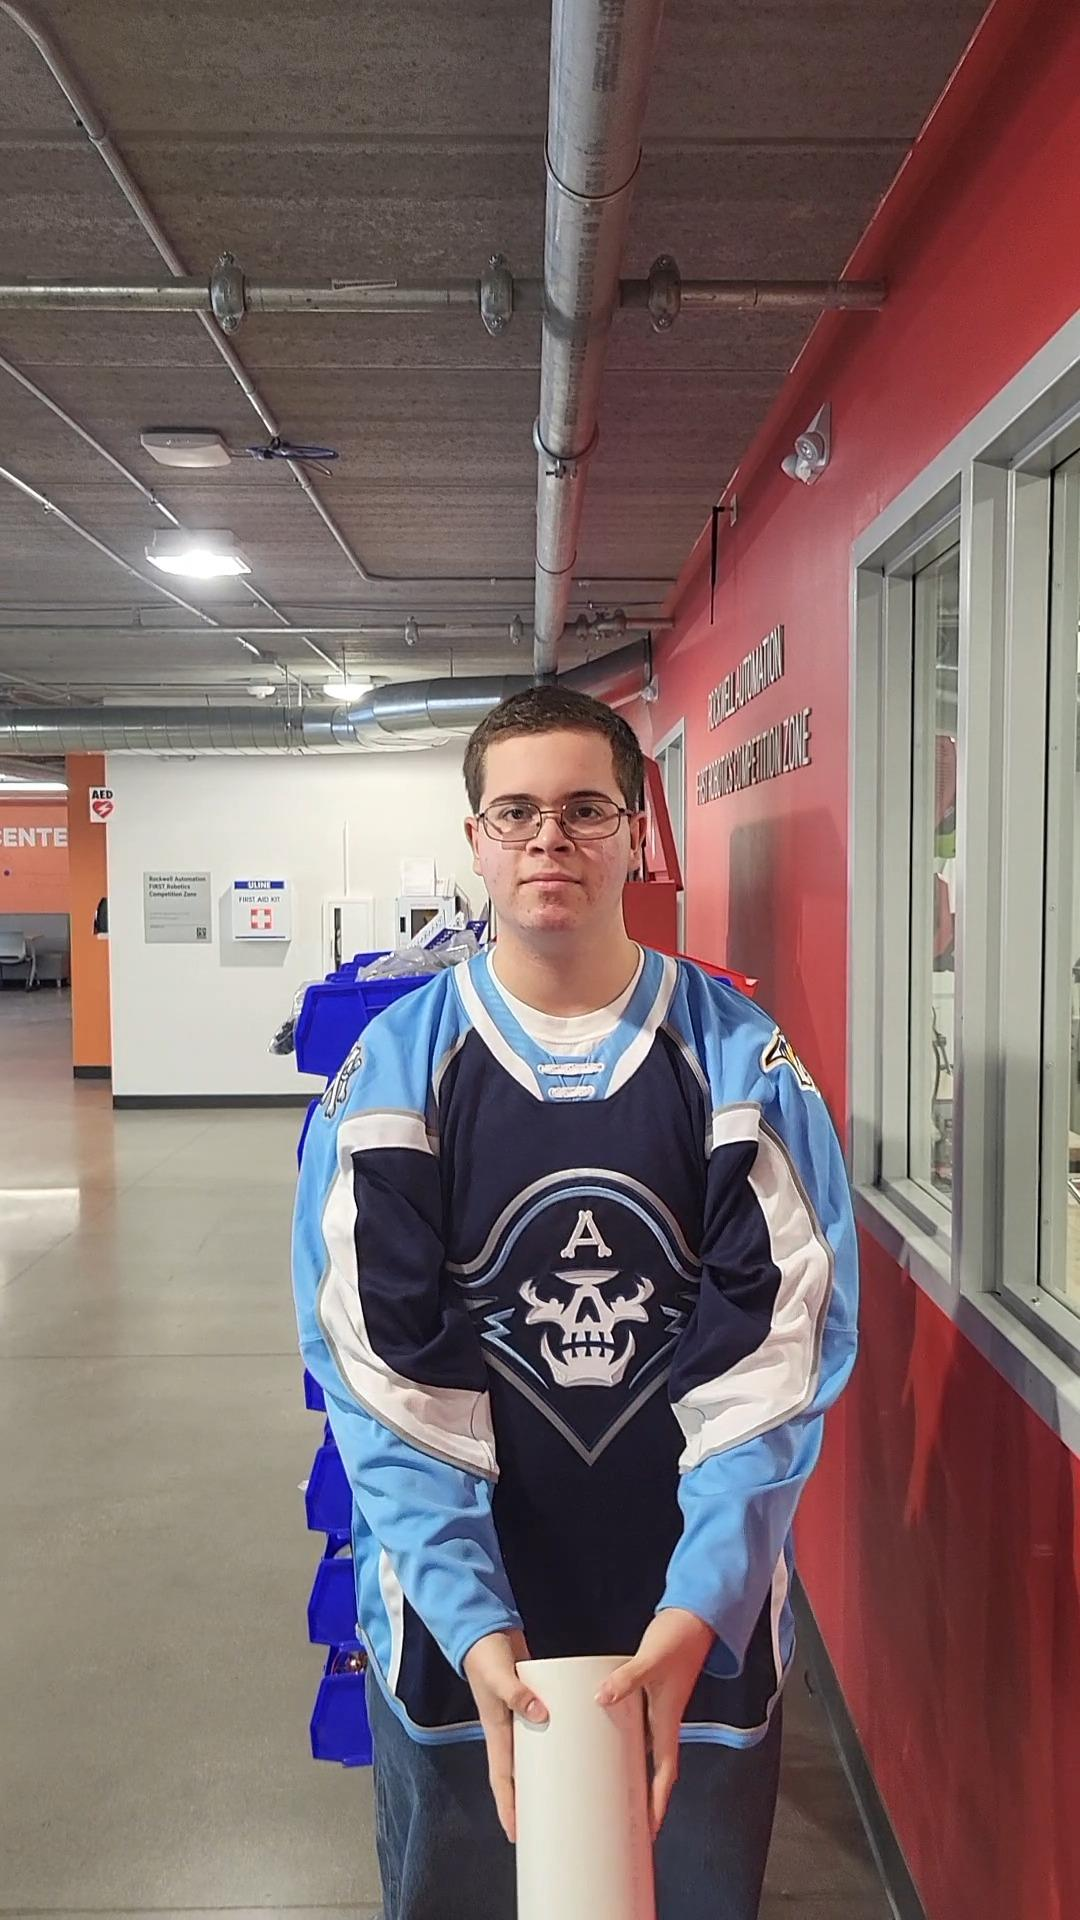coral: (493, 1647, 667, 1920)
